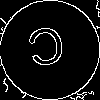C: (25, 25, 69, 77)
